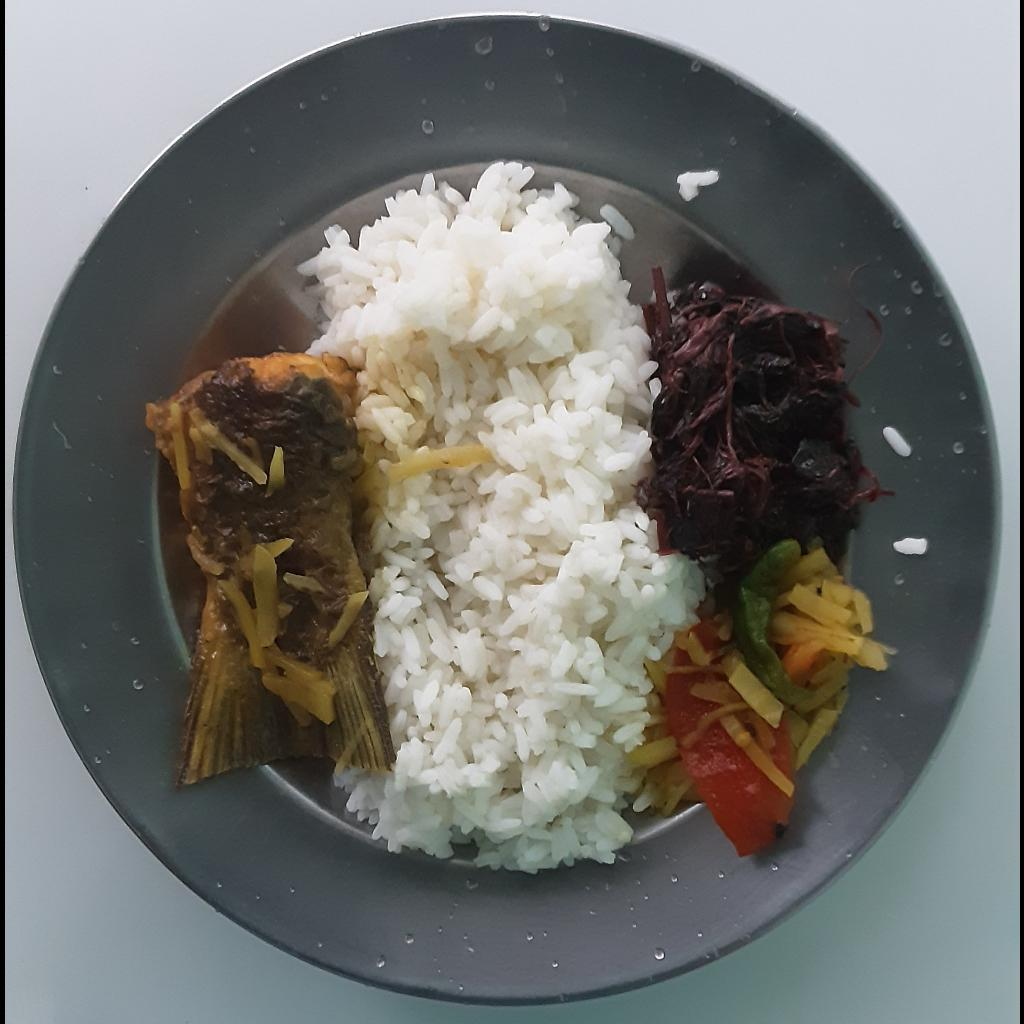fish: (141, 347, 404, 783)
lal-shak: (633, 267, 877, 564)
potato: (621, 529, 894, 819)
rice: (293, 159, 725, 872)
tomato: (679, 728, 791, 856), (644, 684, 719, 738)
